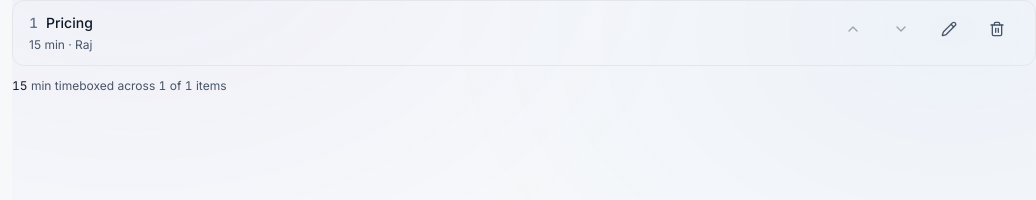
Test: rejects a non-integer timebox before anything is sent
Click the button named "Edit \"Pricing\"": click(949, 29) [927,13,971,45]
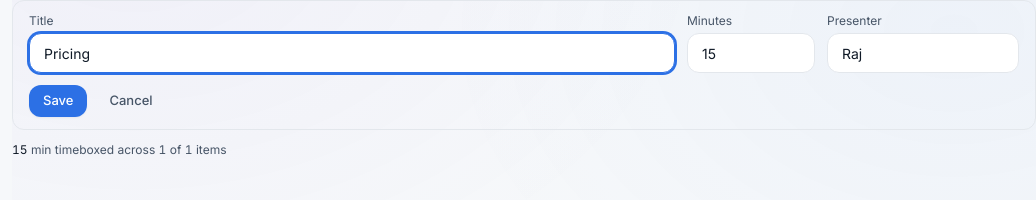
Replace the text in the field labelled "Minutes" with "1.5": (751, 53) [687,33,815,73]
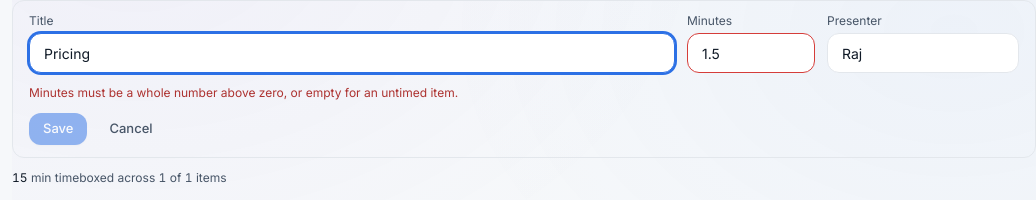
Now the message shows "whole number", box [29,85,458,100]
Now the button "Save" is disabled, box [29,113,88,145]
